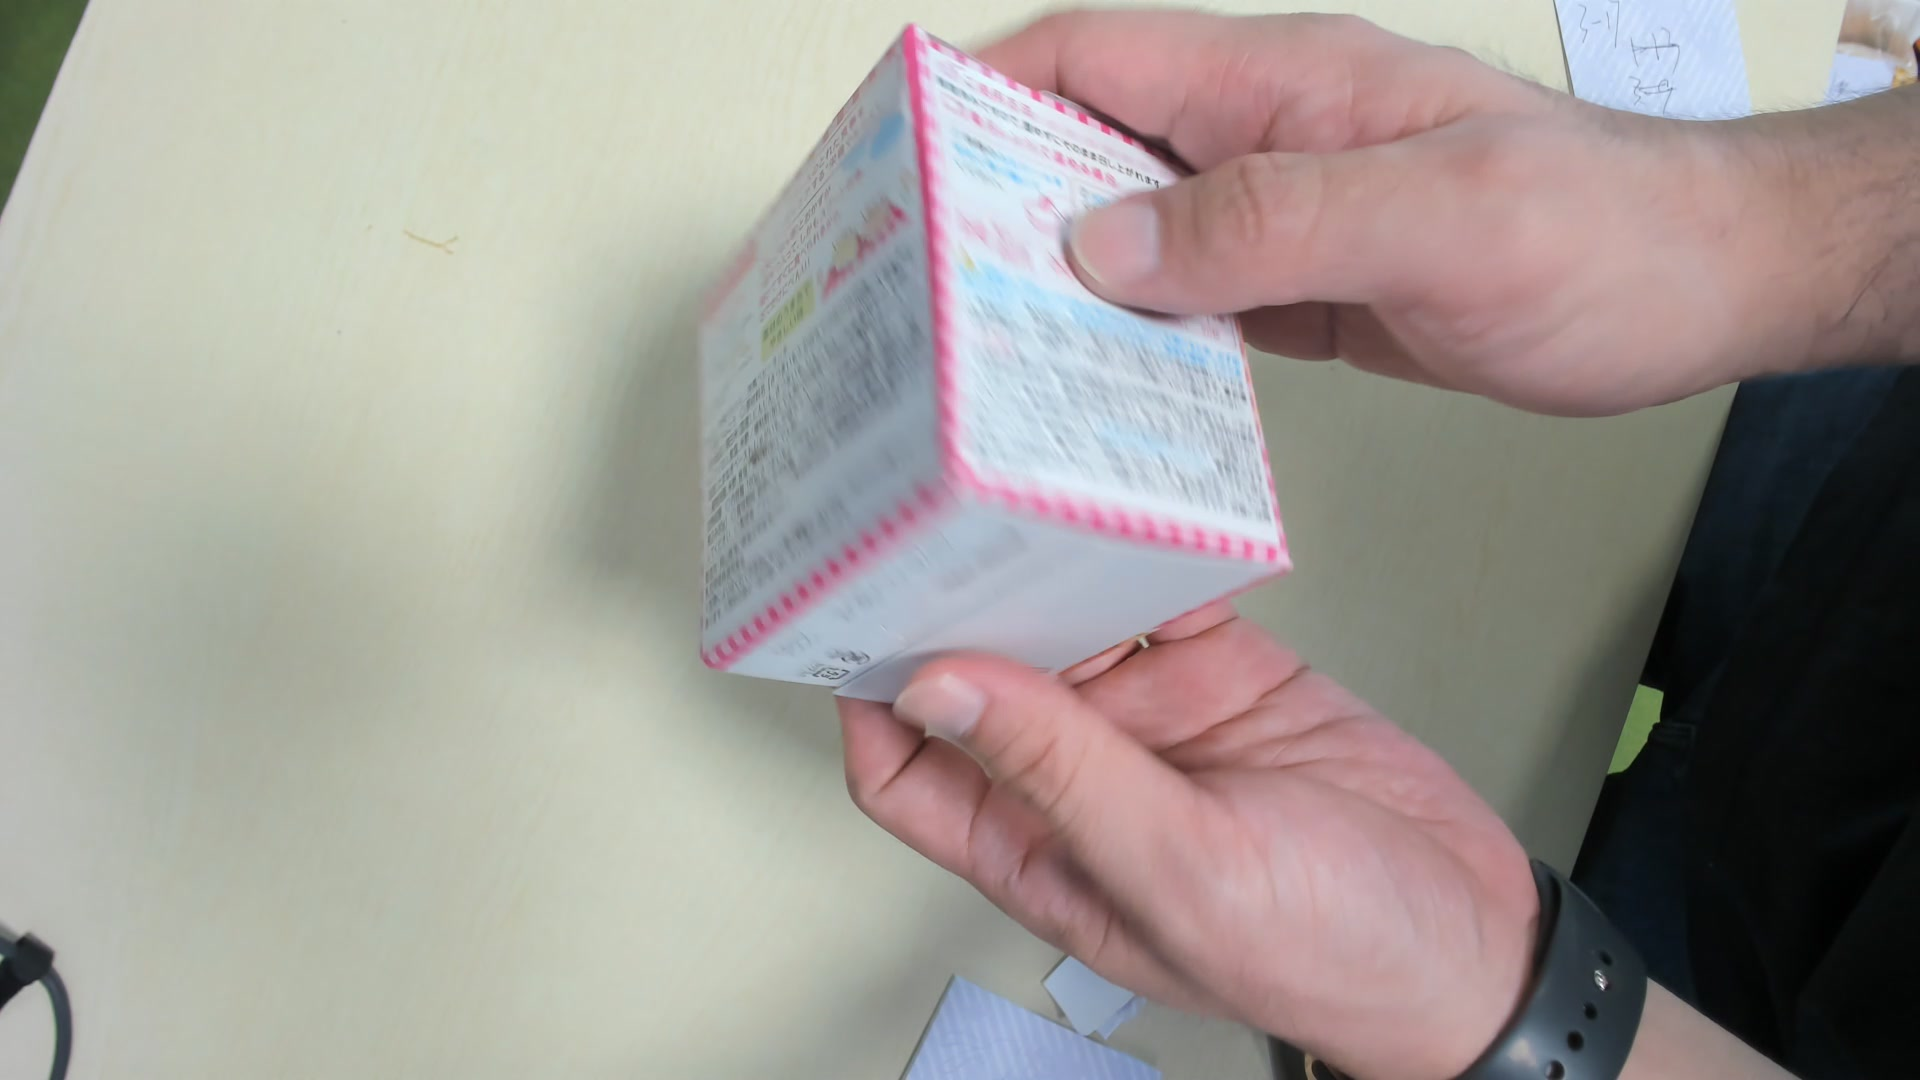InstantMeals_0-99g_NonHalal_NonHealthy: (680, 25, 1294, 719)
